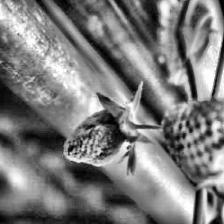Gray Mold: (62, 81, 163, 176)
